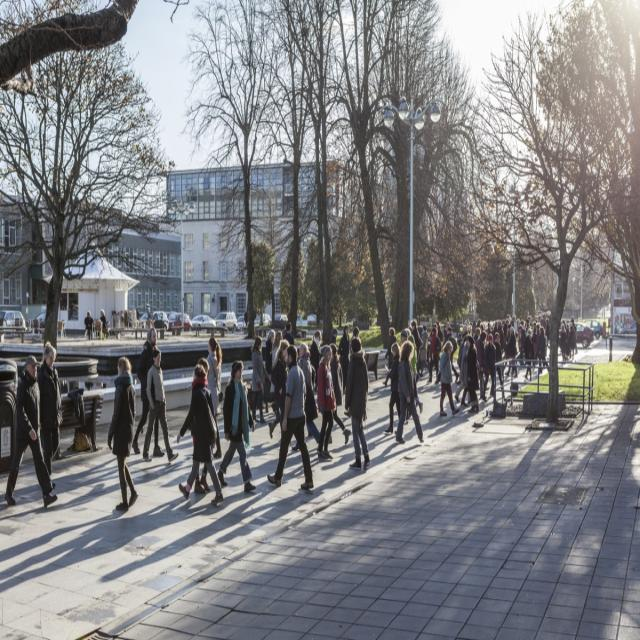body: (4, 379, 480, 595), (400, 310, 578, 378), (3, 354, 59, 511), (176, 362, 225, 506), (266, 343, 314, 490), (215, 357, 256, 493), (106, 354, 140, 513), (131, 324, 166, 458), (142, 346, 180, 464), (36, 340, 64, 491), (344, 336, 371, 471), (291, 341, 321, 452), (394, 338, 425, 445), (192, 356, 215, 495), (203, 335, 224, 460), (316, 343, 337, 461), (329, 342, 352, 446), (268, 338, 290, 440), (436, 339, 461, 418), (384, 341, 404, 434), (251, 336, 271, 425), (407, 333, 423, 414), (263, 328, 277, 412), (466, 334, 480, 414), (481, 332, 496, 403), (381, 325, 398, 386), (473, 330, 488, 399), (337, 323, 350, 395), (426, 326, 442, 384), (308, 329, 322, 395), (493, 330, 506, 400), (446, 326, 460, 384), (503, 325, 518, 378), (524, 326, 535, 382), (410, 320, 424, 360), (418, 324, 428, 377), (537, 326, 548, 370), (271, 329, 283, 366), (349, 326, 364, 354), (84, 309, 95, 342), (559, 322, 567, 362), (283, 321, 295, 345), (328, 327, 340, 345), (99, 308, 107, 333), (176, 314, 181, 326), (136, 306, 140, 320)
